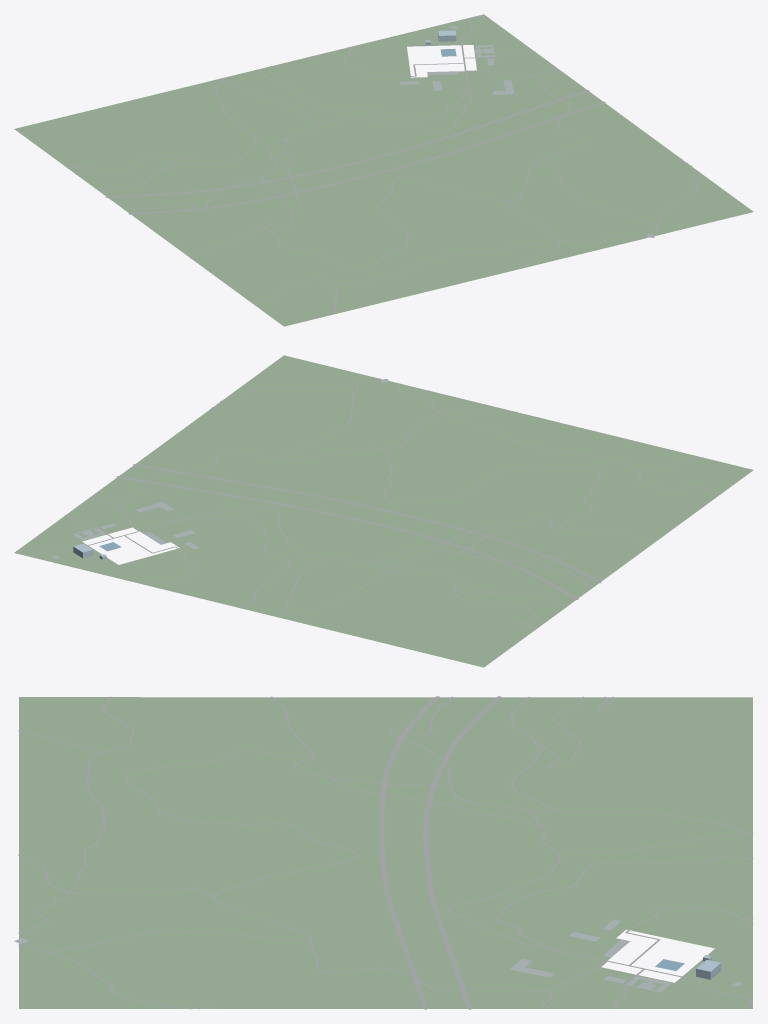
The model's file is -19_15-known-coarse.glb.
3 views of the same model, one above another, from view 1: azimuth 30°, elevation 25°; view 2: azimuth 150°, elevation 25°; view 3: azimuth 270°, elevation 25° (orthographic). The views are drawn at different scales.
Size of the model in its own units: 1006 by 12 by 1003.
